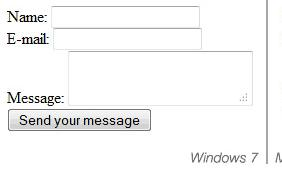button: (6, 108, 152, 132)
field: (64, 49, 254, 107), (49, 26, 202, 52), (48, 5, 201, 28)
field_with_label: (4, 47, 256, 108), (7, 27, 204, 53), (8, 3, 202, 27)
